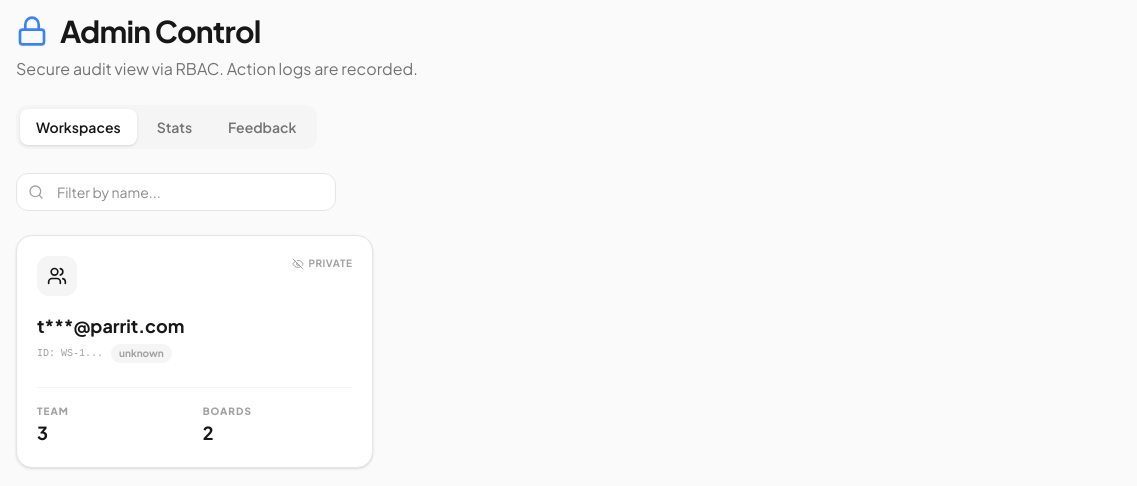
Test: AdminPortal › shows empty state when there is no feedback
This screenshot has width=1137, height=486.
Expected: the heading "t***@parrit.com" is shown, [37,314,184,337]
Click the button "feedback": (262, 127) [212,109,312,145]
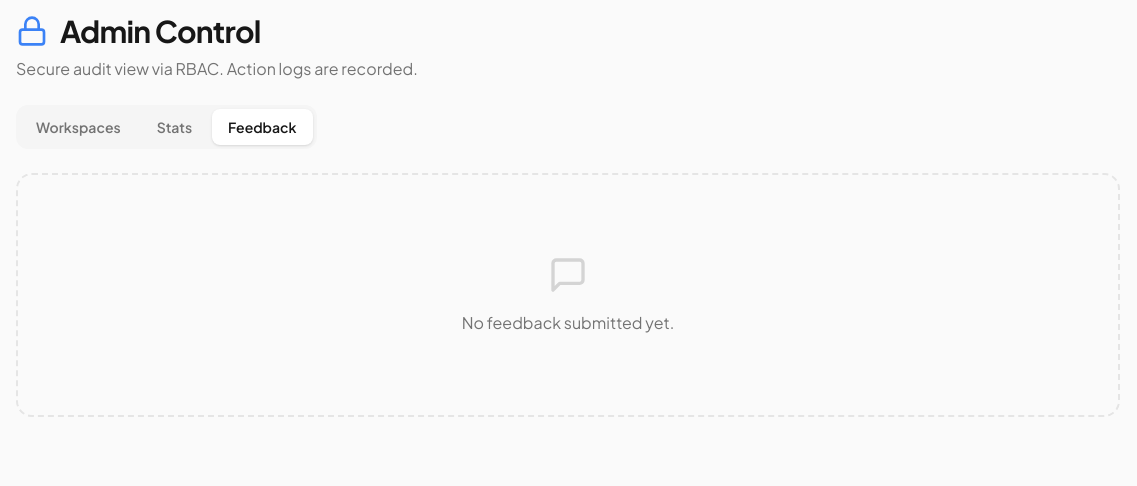
Now the text "No feedback submitted yet." is shown, box [462,312,674,333]
